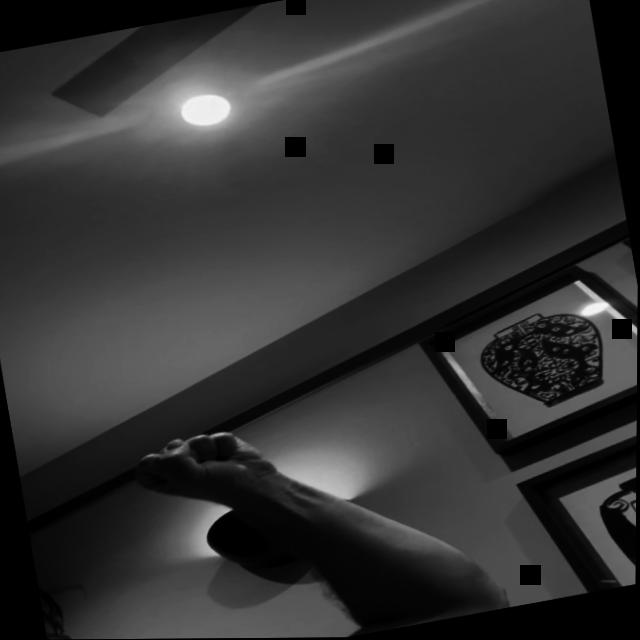Rock: (121, 422, 285, 520)
